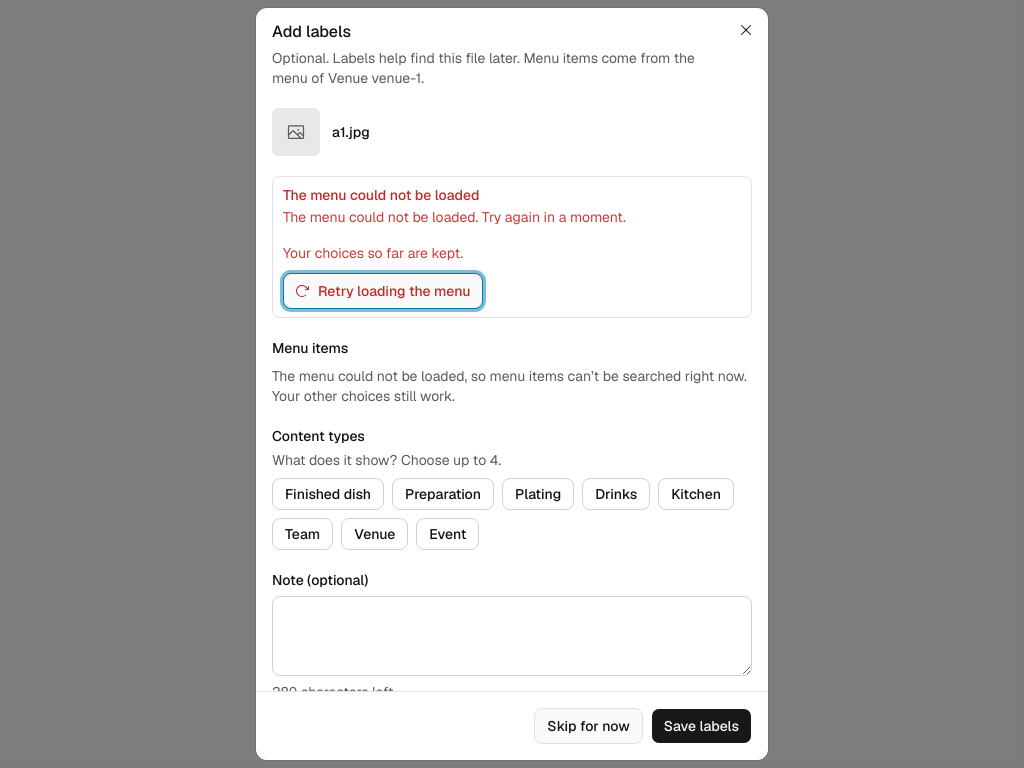
LabelEditorHost › passes a catalogue error to the editor and reloads it on retry, keeping edits
expect the text "The menu could not be loaded. Try again in a moment." is shown: met, box [283,208,626,226]
Click the button "Kitchen".
click(696, 494)  # box [658,478,734,510]
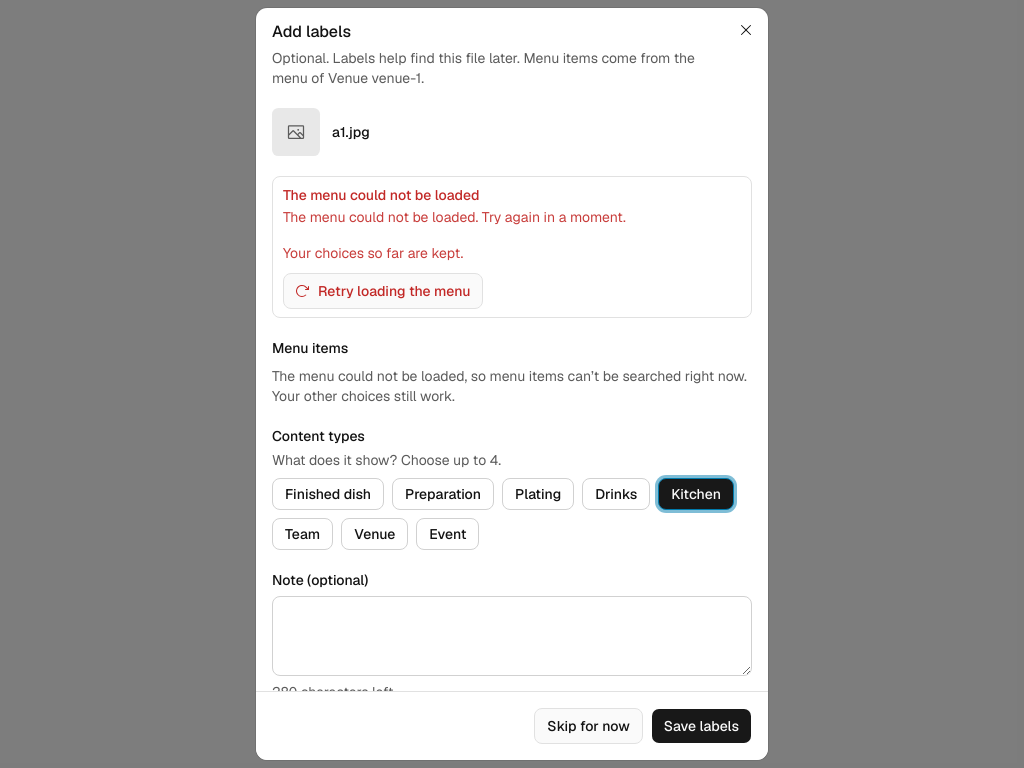
Click the button "Retry loading the menu".
click(383, 291)  # box [283,273,484,309]
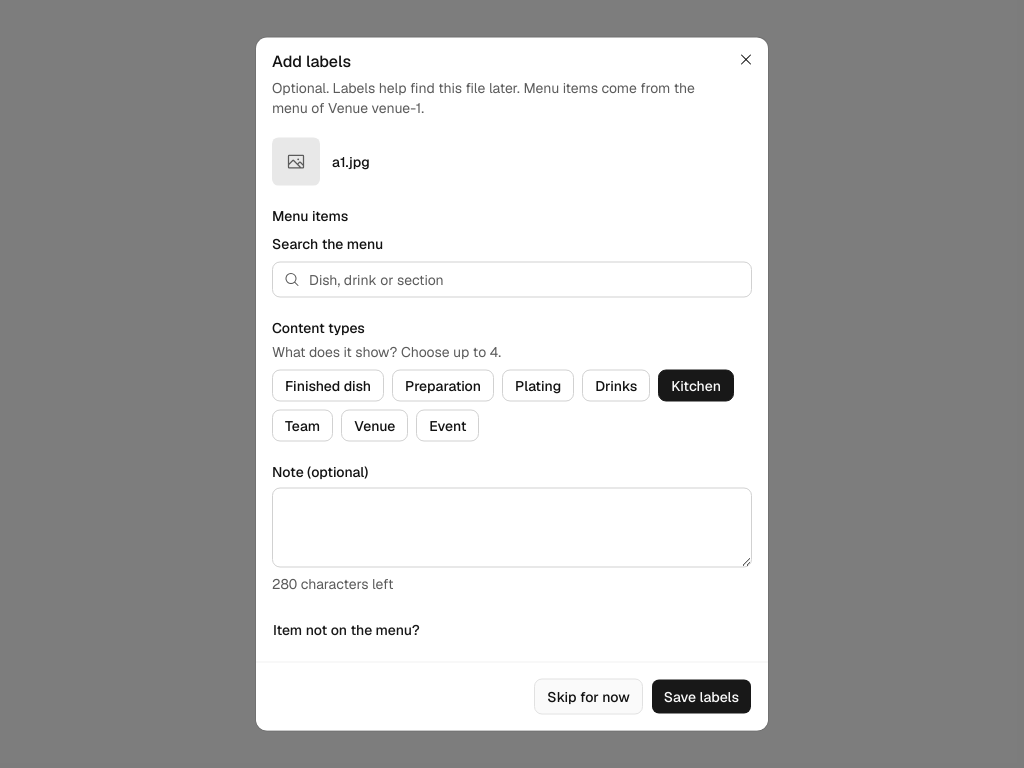
expect the dropdown labelled "Search the menu" is shown: met, box [272,262,752,298]
